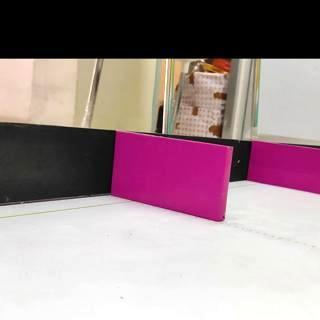xparking: (111, 131, 233, 221), (249, 141, 320, 193)
